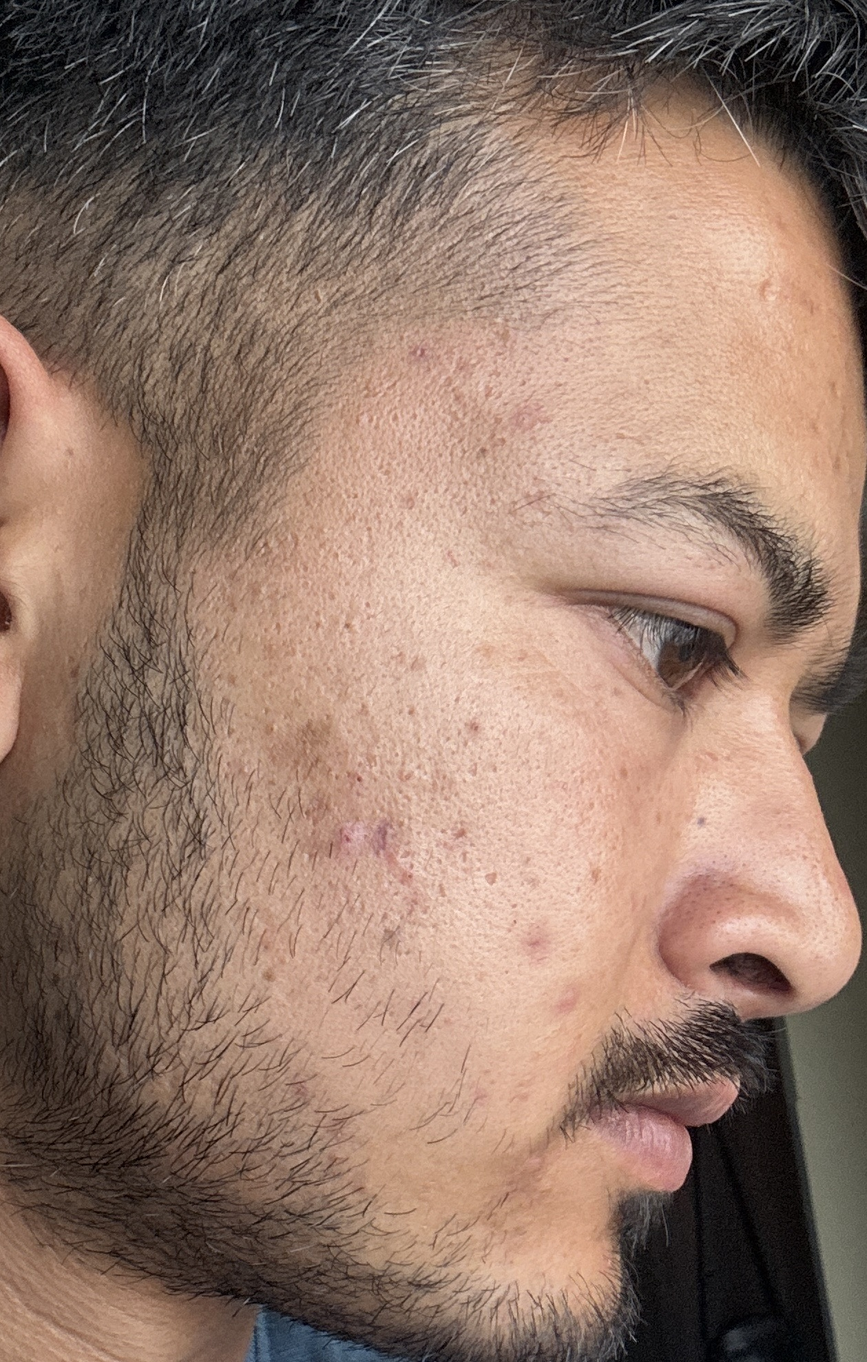papule: (301, 794, 393, 878), (499, 392, 579, 457), (546, 972, 615, 1033), (517, 918, 561, 967)
